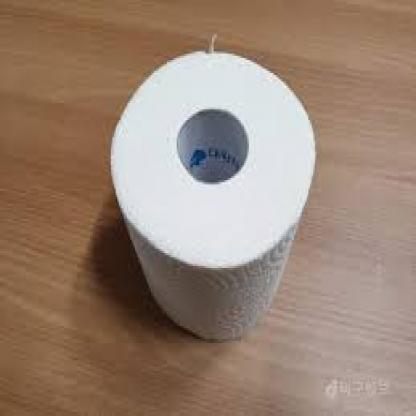tissue: (102, 36, 318, 345)
